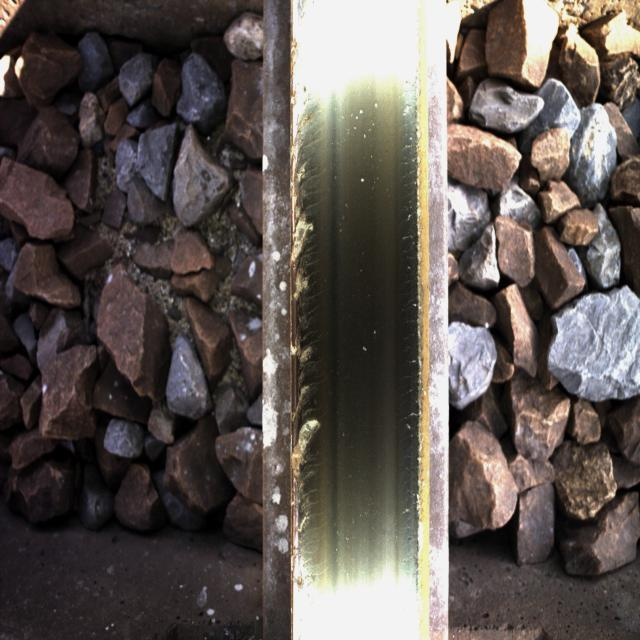crack: (288, 34, 344, 562)
